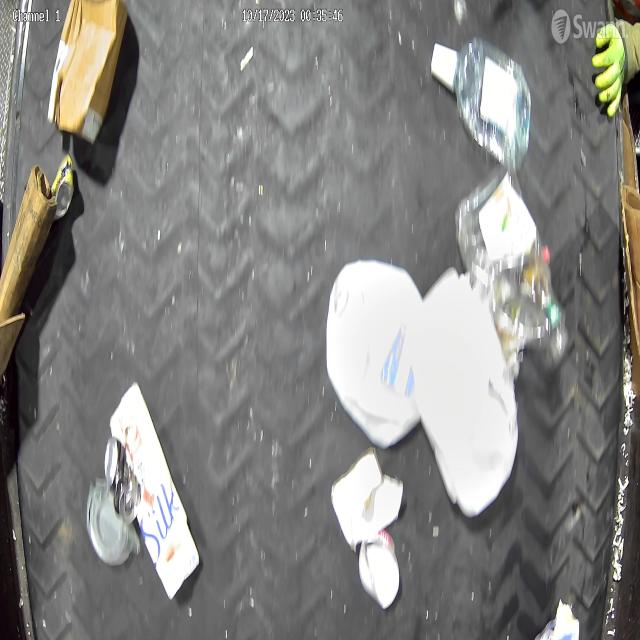can: (104, 437, 137, 522), (51, 151, 74, 222)
milk_jug: (412, 269, 518, 518), (327, 260, 426, 450)
plastic_bottle: (431, 36, 531, 167)
